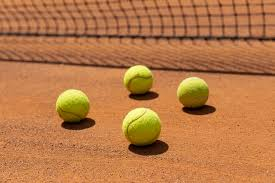tennis_ball: (121, 106, 161, 147), (56, 88, 90, 124), (176, 76, 209, 110), (124, 64, 153, 95)
